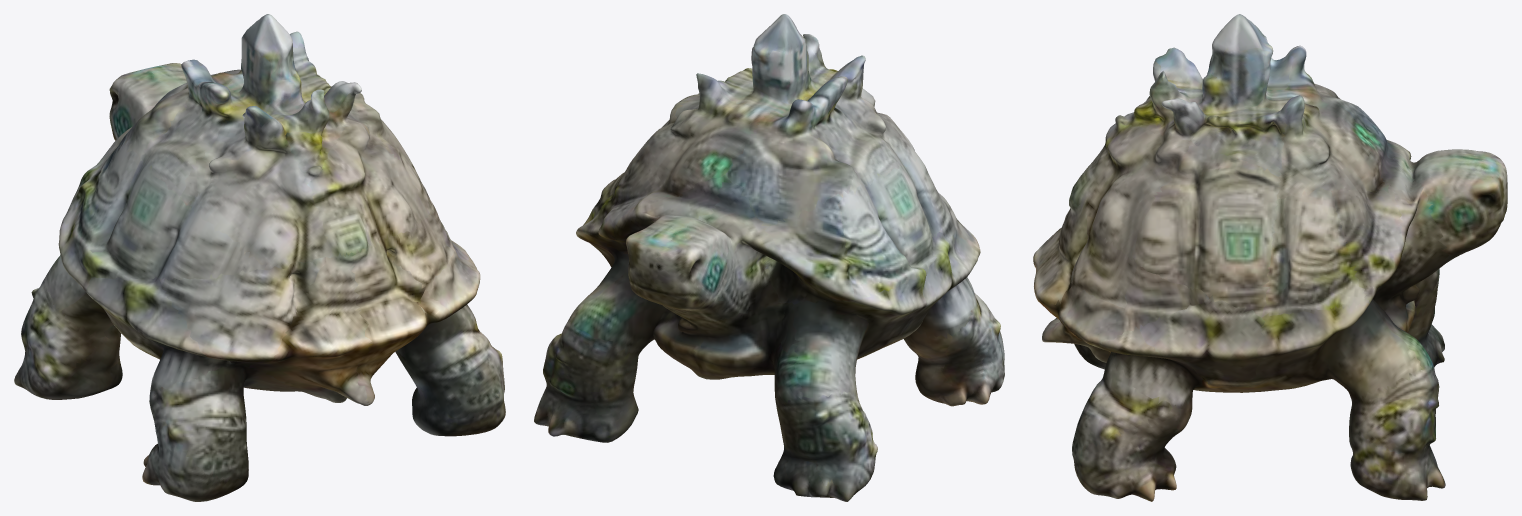
Rendered from earth_turtle.glb.
3 views of the same model, side by side, from view 1: azimuth 30°, elevation 25°; view 2: azimuth 150°, elevation 25°; view 3: azimuth 270°, elevation 25° (orthographic). The views are drawn at different scales.
Parts seen in each view (by area): view 1: tripo_node_4b9792b0-9209-4695-b979-e99d4a7117c9; view 2: tripo_node_4b9792b0-9209-4695-b979-e99d4a7117c9; view 3: tripo_node_4b9792b0-9209-4695-b979-e99d4a7117c9.
Part boxes in pixels (left/top/right/bottom): tripo_node_4b9792b0-9209-4695-b979-e99d4a7117c9: left=14, top=14, right=505, bottom=501; tripo_node_4b9792b0-9209-4695-b979-e99d4a7117c9: left=534, top=14, right=1004, bottom=501; tripo_node_4b9792b0-9209-4695-b979-e99d4a7117c9: left=1033, top=14, right=1507, bottom=501.
Size of the model in its own units: 0.5548 by 0.6284 by 0.6543.
1 material, 1 textured.
